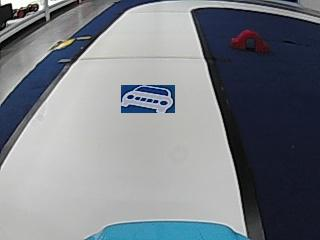bridge: (230, 27, 268, 53)
